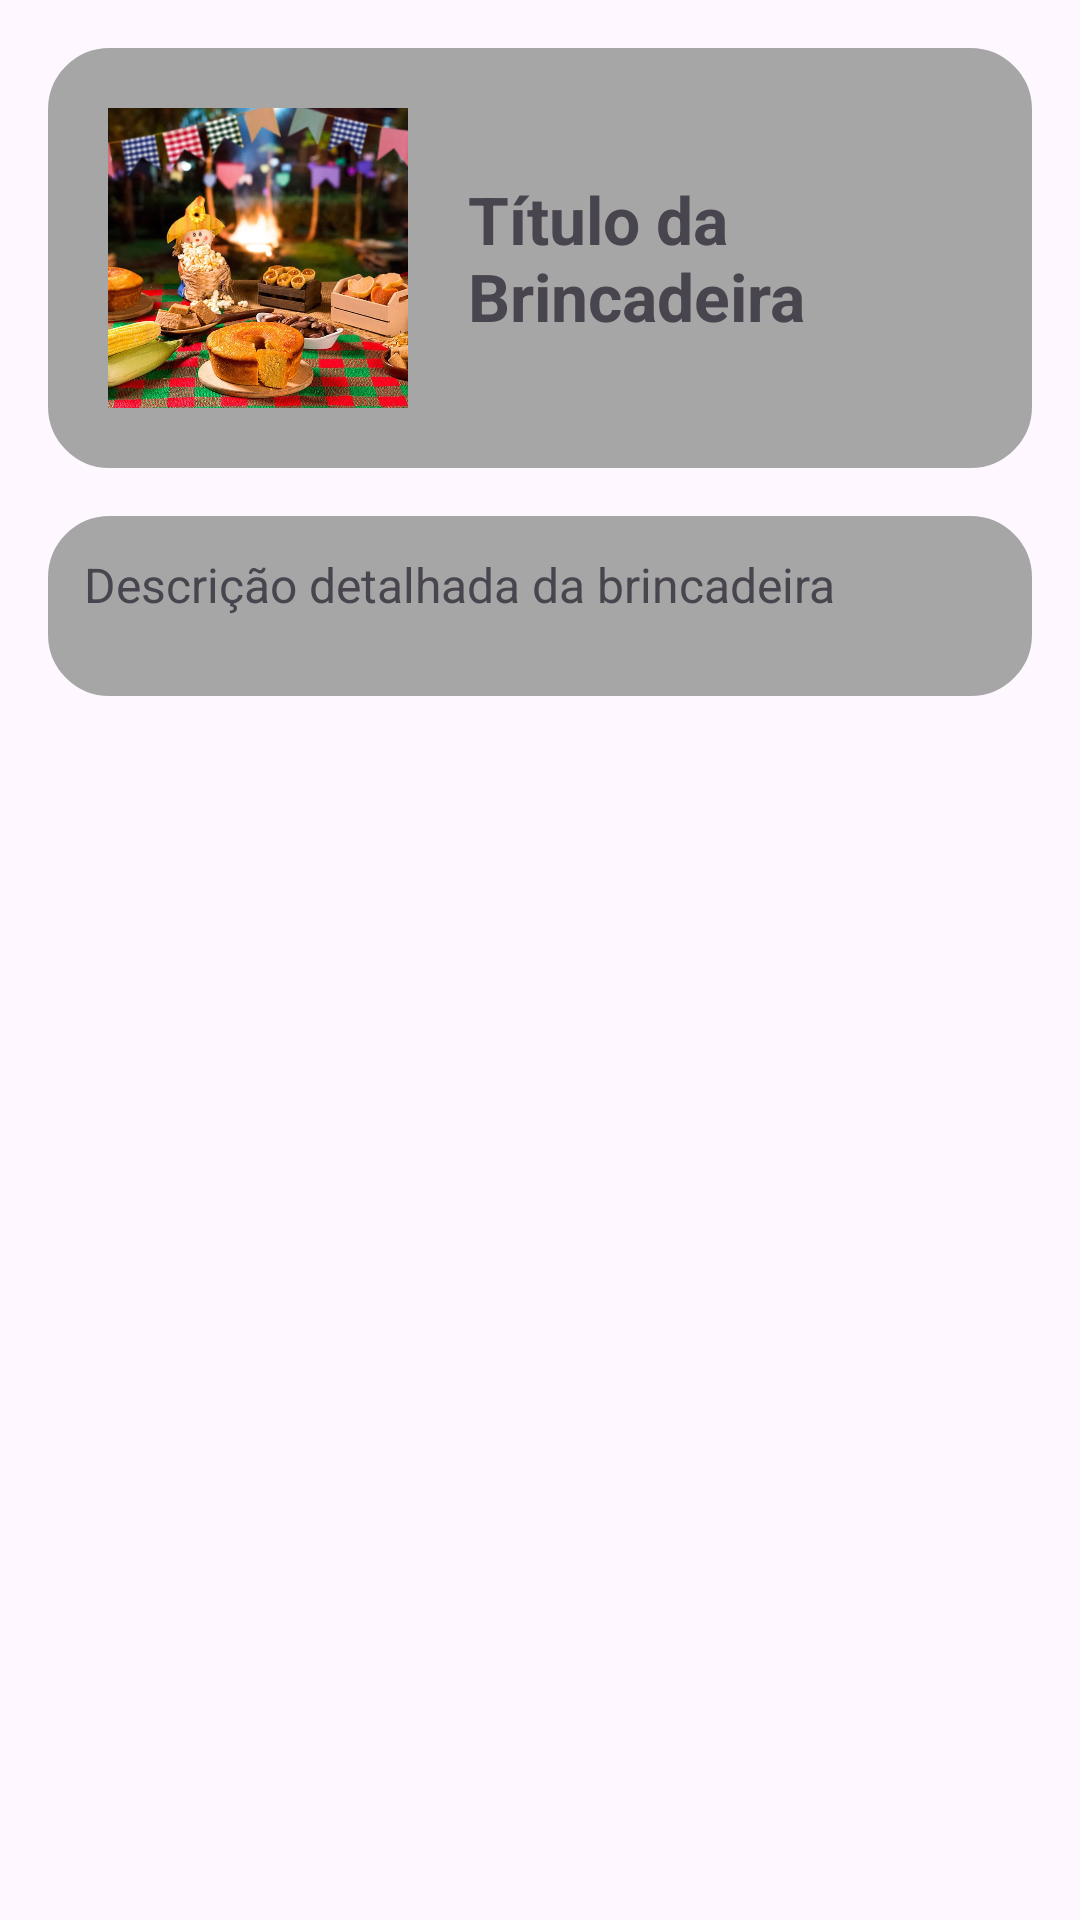

Named icons in this screenshot (1080 x 1920) and their bounding boxes, [left=x1, top=y1, right=x2, bottom=y2]:
Imagem da brincadeira: [left=108, top=108, right=408, bottom=408]
